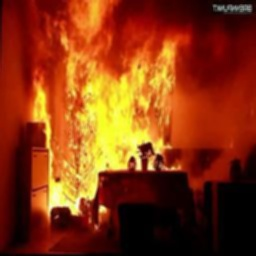fire: (23, 8, 199, 240)
